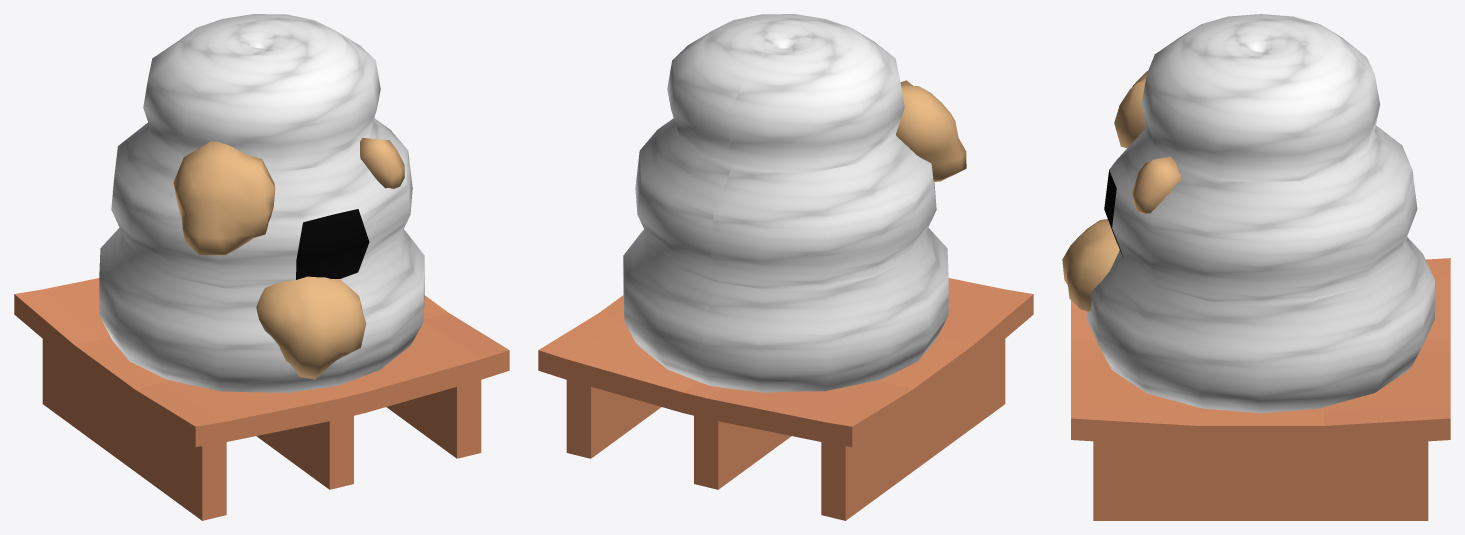
The model's file is Beehive.fbx.
3 renders of one model, left to right at view 1: azimuth 30°, elevation 25°; view 2: azimuth 150°, elevation 25°; view 3: azimuth 270°, elevation 25°, orthographic. The views are drawn at different scales.
Parts seen in each view (by area): view 1: Hive, Table, Hones_2, Honey_1, Hones_3; view 2: Hive, Table, Hones_2; view 3: Hive, Table, Honey_1, Hones_3, Hones_2.
Boxes of the visible parts, x1,y1,x2,y2 form: Hive: [99, 14, 424, 392]; Table: [14, 278, 509, 520]; Hones_2: [173, 141, 275, 255]; Honey_1: [256, 276, 366, 379]; Hones_3: [360, 137, 404, 188]; Hive: [623, 14, 948, 392]; Table: [538, 278, 1033, 520]; Hones_2: [896, 80, 966, 181]; Hive: [1086, 14, 1434, 413]; Table: [1071, 258, 1450, 520]; Honey_1: [1062, 219, 1119, 311]; Hones_3: [1132, 156, 1180, 213]; Hones_2: [1114, 70, 1148, 147].
Size of the model in its own units: 100 by 118 by 102.
